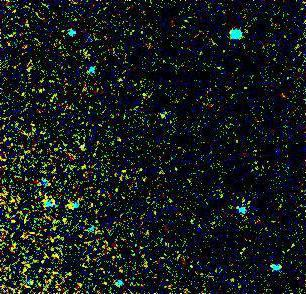star: (50, 207, 80, 237)
